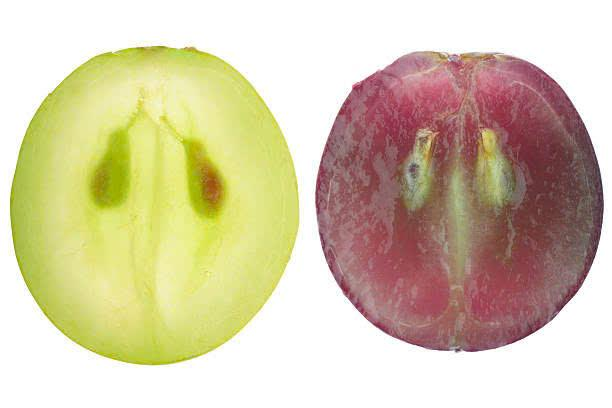grape: (310, 40, 612, 362), (11, 35, 296, 347)
